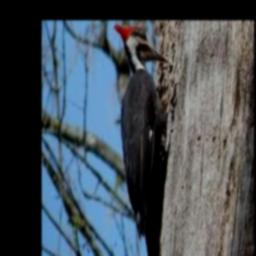Woodpecker: (114, 24, 170, 239)
